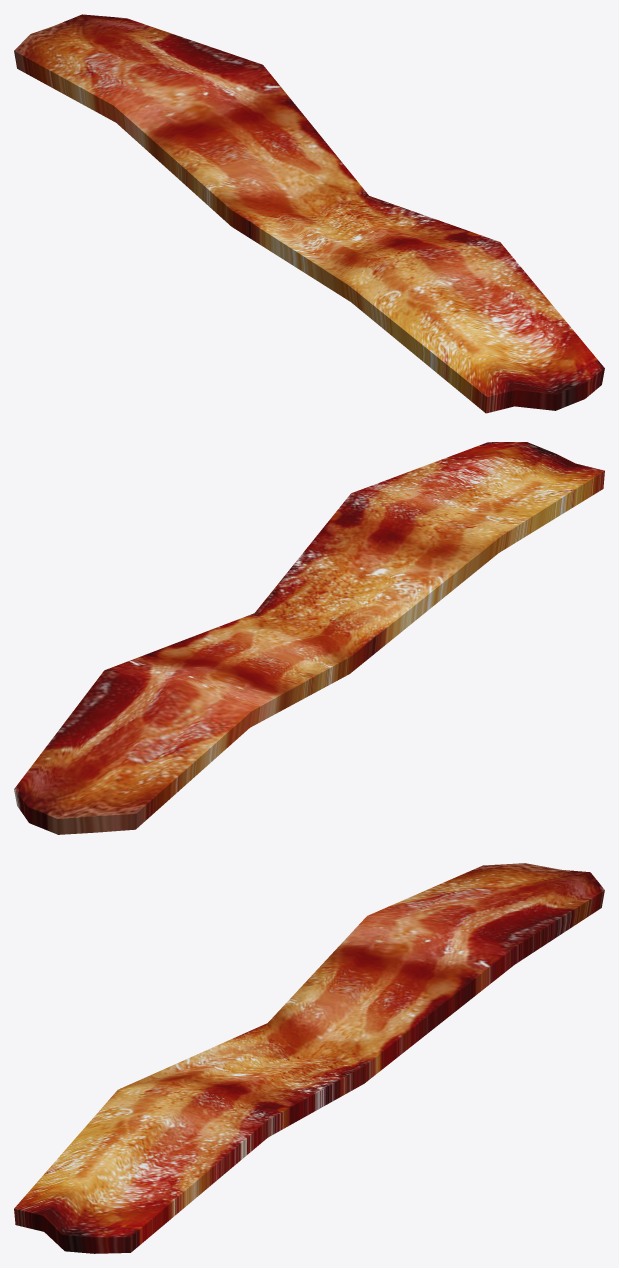
The model's file is baconA.FBX.
3 renders of one model, top to bottom at view 1: azimuth 30°, elevation 25°; view 2: azimuth 150°, elevation 25°; view 3: azimuth 330°, elevation 25°, orthographic.
Visible parts, largest first — view 1: baconA; view 2: baconA; view 3: baconA.
Boxes of the visible parts, <box> form: baconA: <box>14,14,604,413</box>; baconA: <box>14,442,604,834</box>; baconA: <box>14,863,604,1253</box>.
Bounding box in the file's own units: 0.0467 × 0.0165 × 0.2588.
